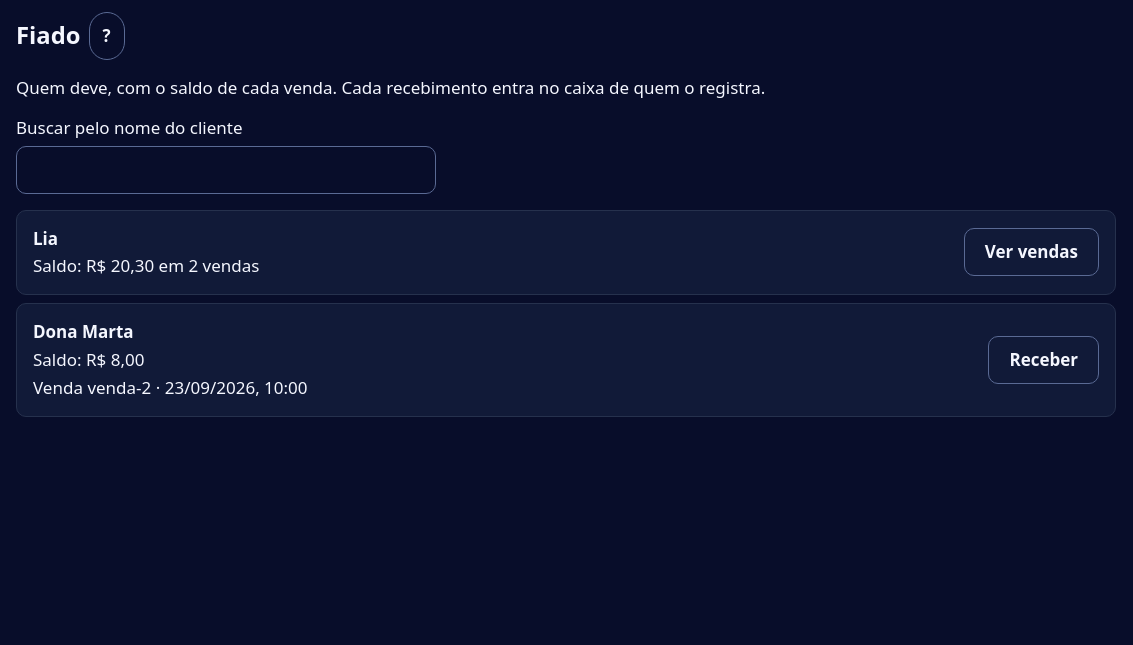
Test: quem deve em duas vendas aparece numa linha só, com o total, e as vendas abrem ao tocar
Expected: the text "Lia" is shown once, [33, 227, 58, 250]
Expected: the text "Saldo: R$ 20,30 em 2 vendas" is shown, [33, 254, 260, 277]
Click the button "Ver vendas": (1031, 252) [964, 228, 1099, 276]
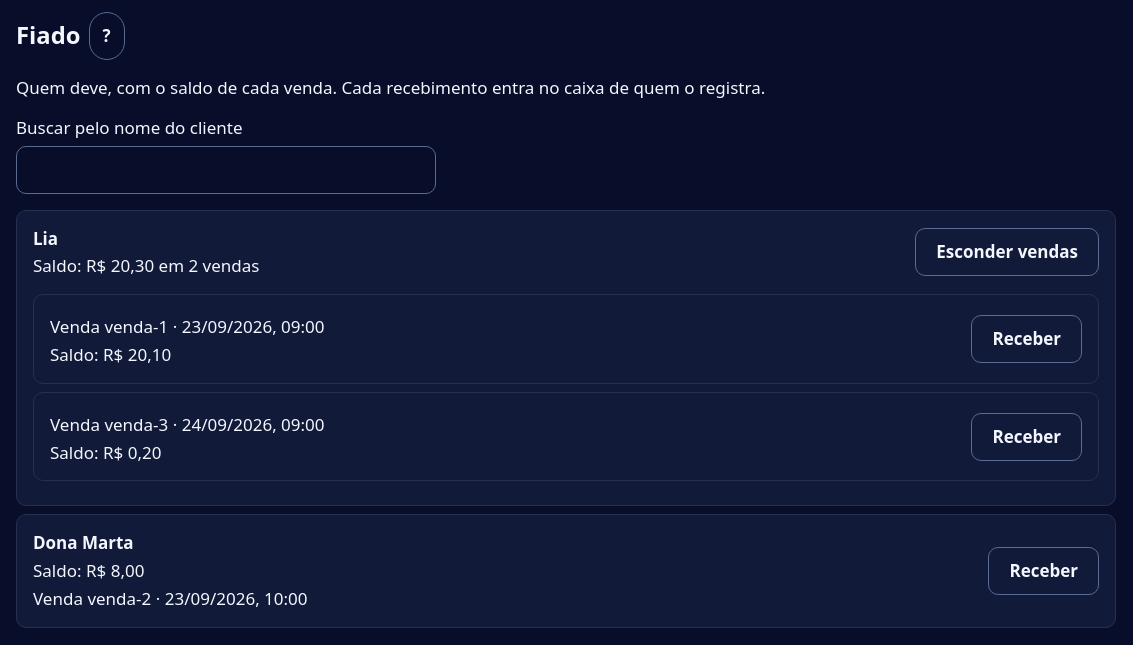
Expected: the button "Esconder vendas" is expanded, [915, 228, 1099, 276]
Expected: the number of buttons "Receber" is 3, [971, 315, 1082, 363]; [971, 413, 1082, 461]; [988, 547, 1099, 595]
